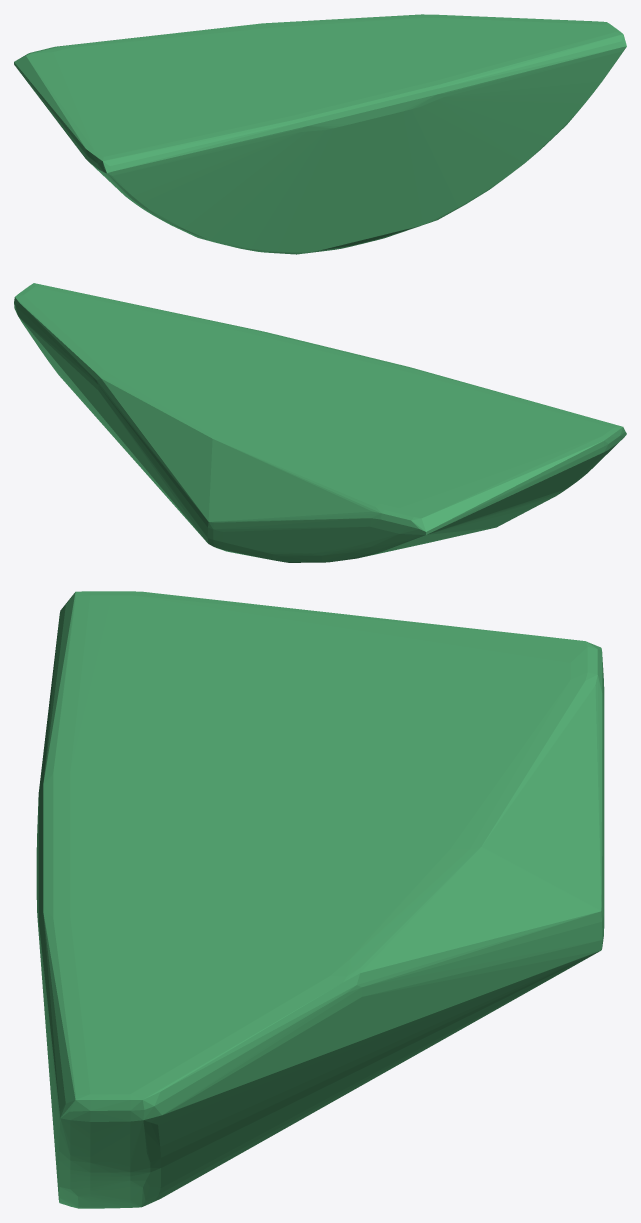
File: right_hip_yaw_link_part_3.obj
3 renders of one model, top to bottom at view 1: azimuth 30°, elevation 25°; view 2: azimuth 150°, elevation 25°; view 3: azimuth 270°, elevation 25°, orthographic. The views are drawn at different scales.
Size of the model in its own units: 0.0874 by 0.0234 by 0.041.
